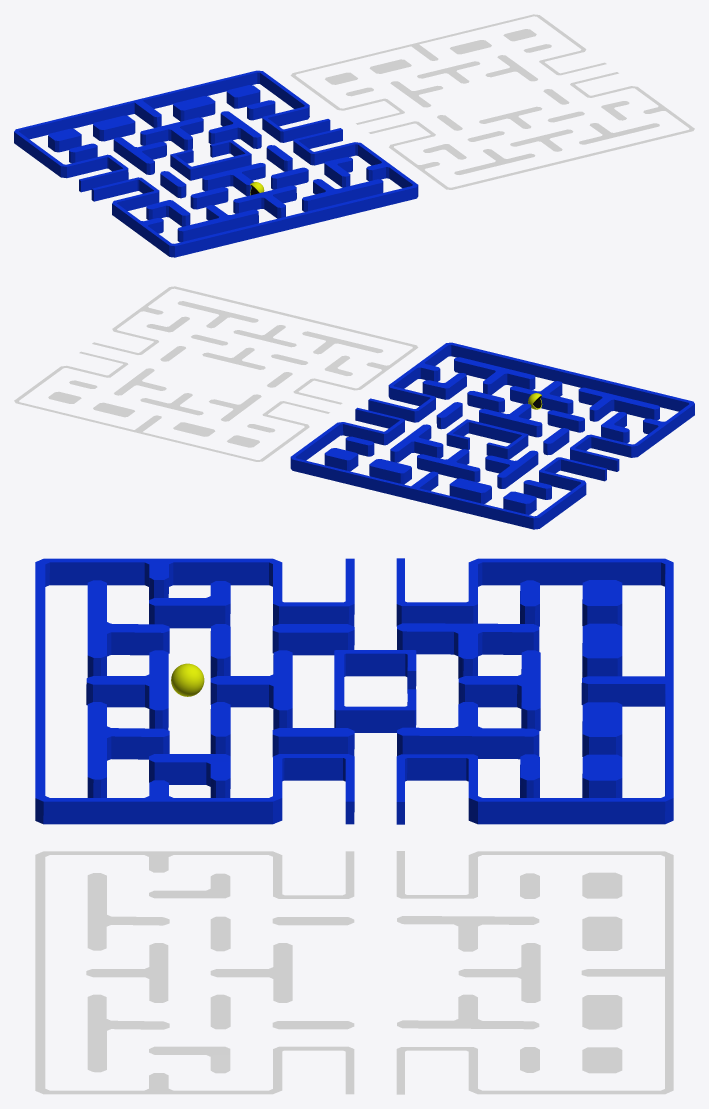
The model's file is map2.fbx.
The picture shows the model from 3 angles, top to bottom: view 1: azimuth 30°, elevation 25°; view 2: azimuth 150°, elevation 25°; view 3: azimuth 270°, elevation 25°; orthographic projection. The views are drawn at different scales.
Parts seen in each view (by area): view 1: Plane, Plane.001; view 2: Plane, Plane.001; view 3: Plane, Plane.001, Pac-Man.
Part boxes in pixels (box(x1,y1,x2,y2)): Plane: box(14, 70, 418, 257); Plane.001: box(290, 14, 694, 189); Plane: box(290, 342, 694, 529); Plane.001: box(14, 286, 418, 461); Plane: box(35, 558, 673, 824); Plane.001: box(35, 851, 673, 1094); Pac-Man: box(171, 663, 204, 696).
Bounding box in the file's own units: 1236 × 41.03 × 650.
